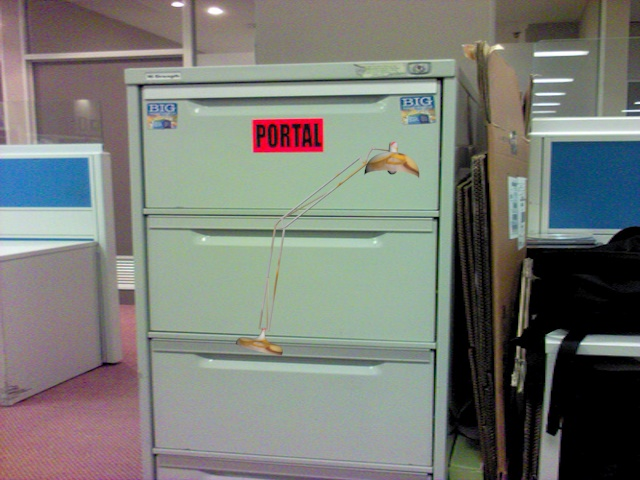desk_lamp: (225, 128, 433, 369)
